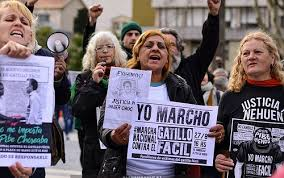Humano: (1, 1, 67, 178), (223, 29, 284, 174), (83, 32, 124, 178), (134, 32, 171, 178), (168, 1, 215, 98), (118, 20, 143, 51)
